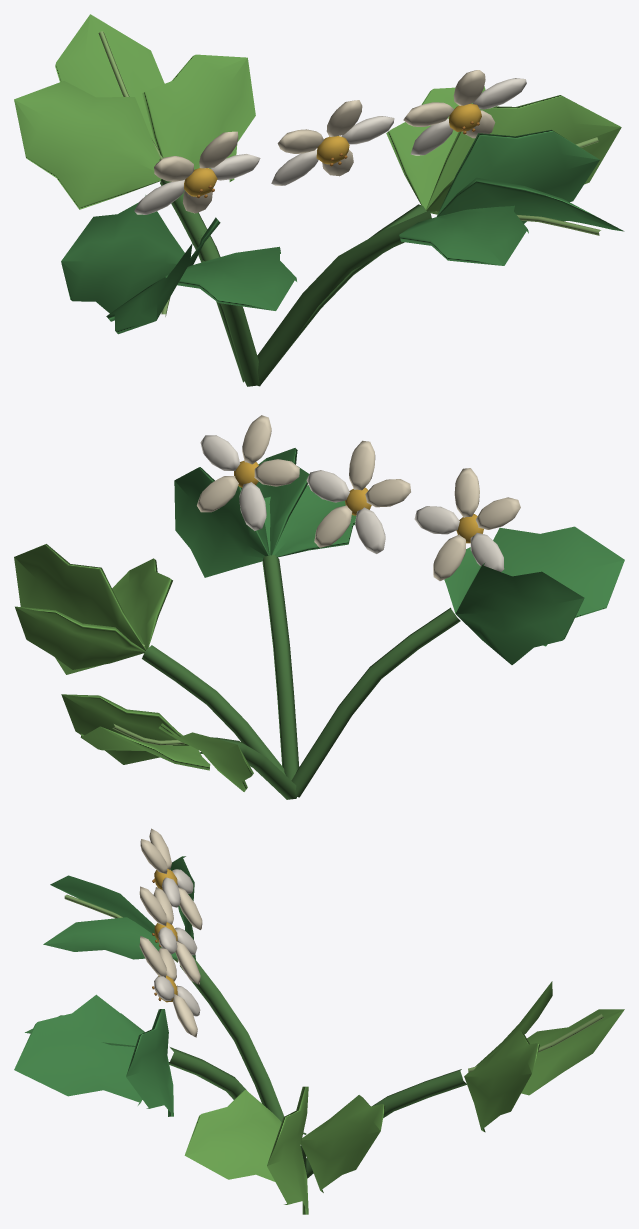
The model's file is fresa_2.glb.
The picture shows the model from 3 angles, top to bottom: view 1: azimuth 30°, elevation 25°; view 2: azimuth 150°, elevation 25°; view 3: azimuth 270°, elevation 25°; orthographic projection. The views are drawn at different scales.
Visible parts, largest first — view 1: fresa_2_roseta_0; view 2: fresa_2_roseta_0; view 3: fresa_2_roseta_0.
Part boxes in pixels (left/top/right/bottom): fresa_2_roseta_0: left=14, top=14, right=624, bottom=386; fresa_2_roseta_0: left=14, top=415, right=624, bottom=799; fresa_2_roseta_0: left=14, top=828, right=624, bottom=1214.
Bounding box in the file's own units: 0.4679 × 0.2551 × 0.4792.
